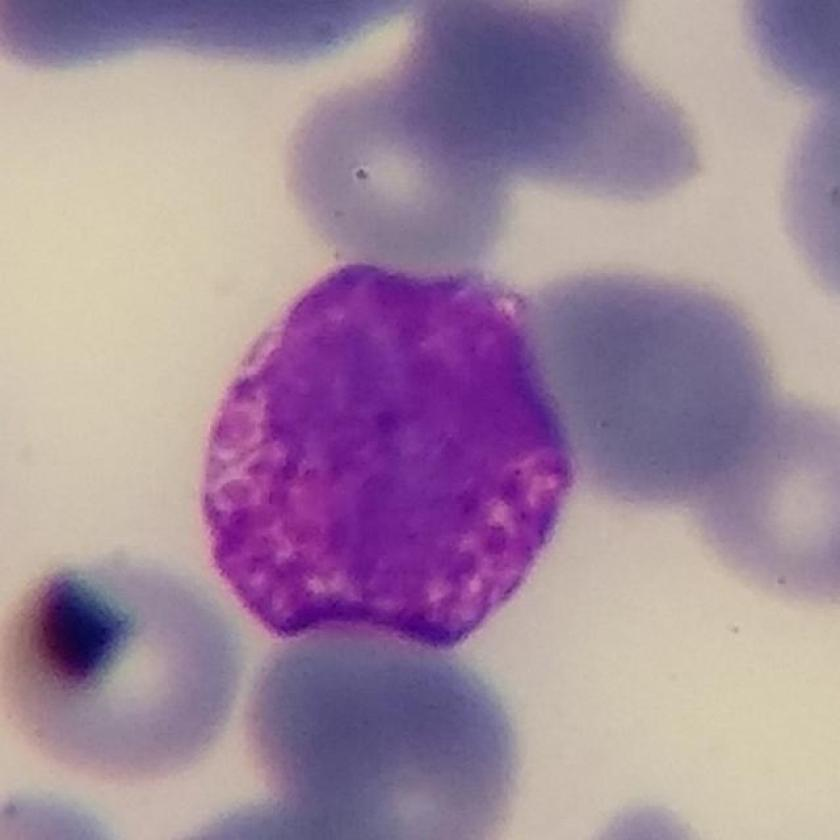basophil: (191, 246, 584, 656)
